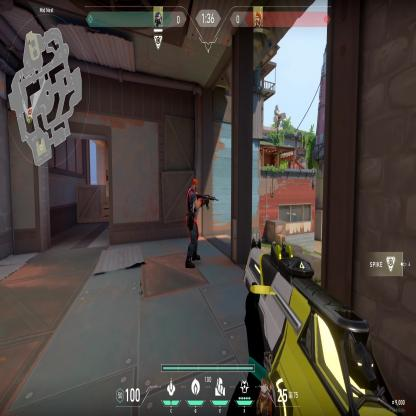enemy: (184, 176, 209, 269)
